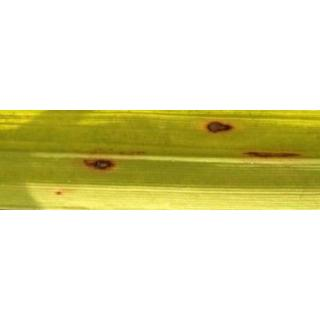bercak-Cokelat: (194, 109, 308, 186), (69, 151, 119, 179)
